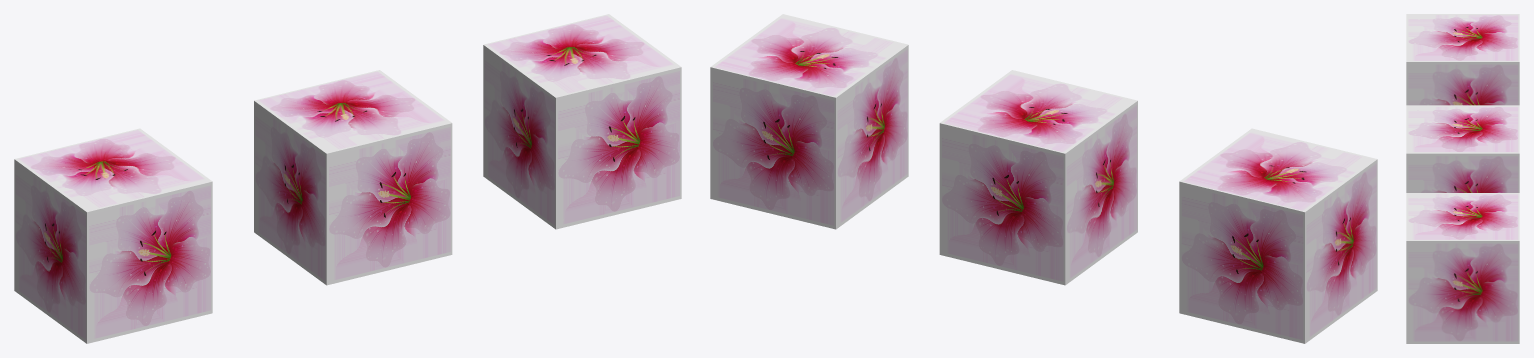
Rendered from cube_flower.gltf.
3 views of the same model, side by side, from view 1: azimuth 30°, elevation 25°; view 2: azimuth 150°, elevation 25°; view 3: azimuth 270°, elevation 25° (orthographic). The views are drawn at different scales.
Parts seen in each view (by area): view 1: CubeFlower.001, CubeFlower.002, CubeFlower; view 2: CubeFlower.001, CubeFlower.002, CubeFlower; view 3: CubeFlower.001, CubeFlower.002, CubeFlower.
Part boxes in pixels (x1=…): CubeFlower.001: x1=483, y1=14, x2=681, y2=229; CubeFlower.002: x1=14, y1=128, x2=212, y2=343; CubeFlower: x1=254, y1=70, x2=452, y2=285; CubeFlower.001: x1=710, y1=14, x2=908, y2=229; CubeFlower.002: x1=1179, y1=128, x2=1377, y2=343; CubeFlower: x1=939, y1=70, x2=1137, y2=285; CubeFlower.001: x1=1406, y1=193, x2=1519, y2=343; CubeFlower.002: x1=1406, y1=14, x2=1519, y2=105; CubeFlower: x1=1406, y1=105, x2=1519, y2=192.
Bounding box in the file's own units: 9.45 × 2 × 2.
1 material, 1 textured.
